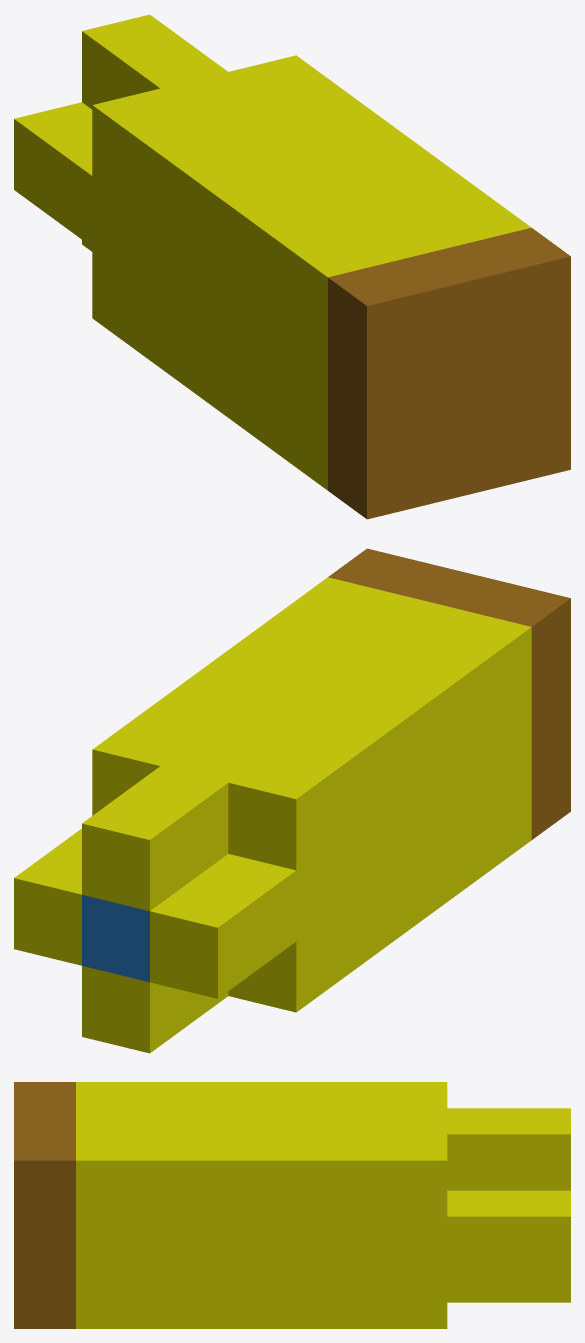
File: Casing.glb
3 renders of one model, top to bottom at view 1: azimuth 30°, elevation 25°; view 2: azimuth 150°, elevation 25°; view 3: azimuth 270°, elevation 25°, orthographic. The views are drawn at different scales.
Visible parts, largest first — view 1: Casing; view 2: Casing; view 3: Casing.
Boxes of the visible parts, left/top/right/bottom form: Casing: left=14, top=14, right=570, bottom=519; Casing: left=14, top=548, right=570, bottom=1053; Casing: left=14, top=1082, right=570, bottom=1328.
Size of the model in its own units: 3 by 3 by 9.
